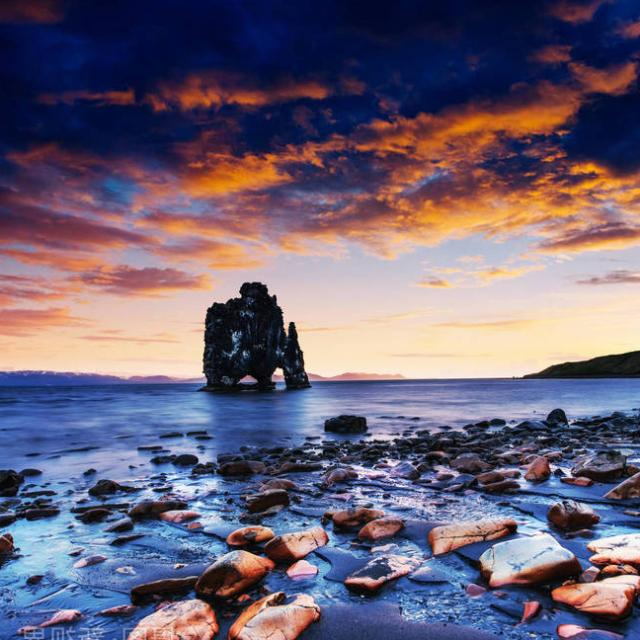reef: (195, 273, 318, 392)
